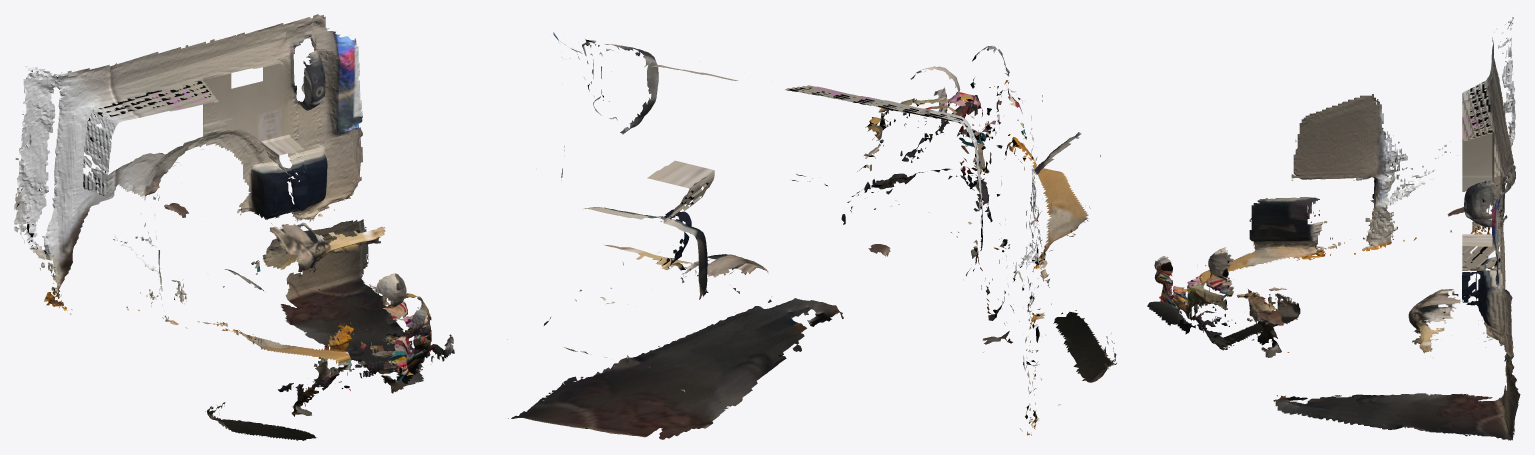
File: camilaScan.gltf
The picture shows the model from 3 angles, left to right: view 1: azimuth 30°, elevation 25°; view 2: azimuth 150°, elevation 25°; view 3: azimuth 270°, elevation 25°; orthographic projection. The views are drawn at different scales.
Bounding box in the file's own units: 3.28 × 2.59 × 3.16.
Materials: 1 (1 with a texture image).
